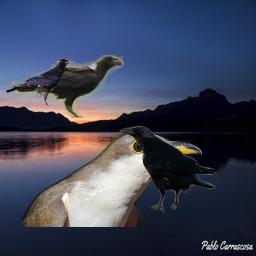Crow: (119, 125, 216, 213), (11, 55, 124, 118), (5, 58, 75, 108)
Cuckoo: (22, 131, 202, 227)
